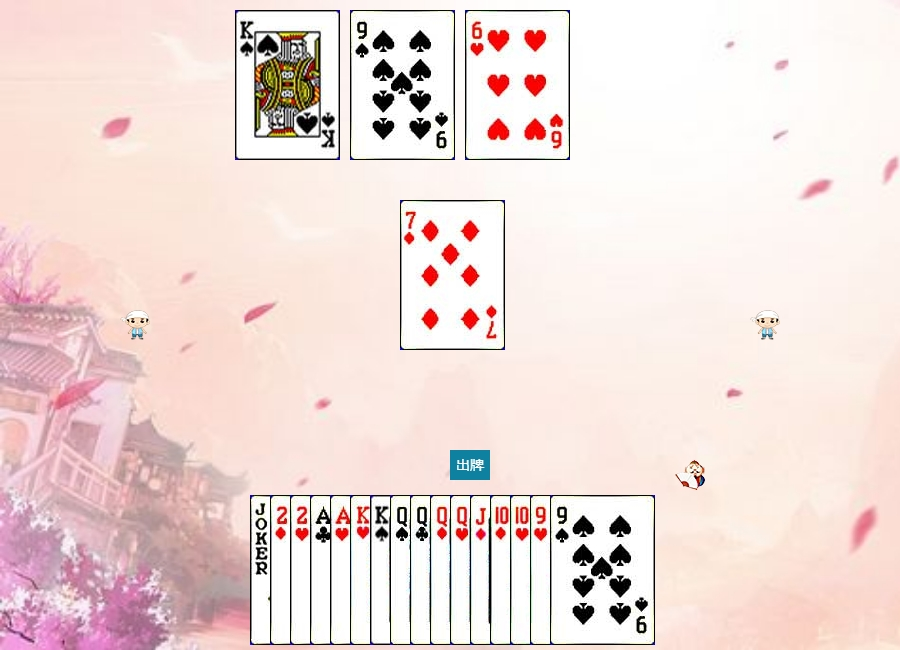10~1: (490, 495, 595, 645)
10~3: (510, 495, 615, 645)
11~1: (470, 495, 575, 645)
12~1: (430, 495, 535, 645)
12~2: (410, 495, 515, 645)
12~3: (450, 495, 555, 645)
12~4: (390, 495, 495, 645)
13~3: (350, 495, 455, 645)
13~4: (235, 10, 340, 160), (370, 495, 475, 645)
14~2: (310, 495, 415, 645)
14~3: (330, 495, 435, 645)
15~1: (270, 495, 375, 645)
15~3: (290, 495, 395, 645)
17~3: (250, 495, 355, 645)
6~3: (465, 10, 570, 160)
7~1: (400, 200, 505, 350)
9~3: (530, 495, 635, 645)
9~4: (350, 10, 455, 160), (550, 495, 655, 645)
